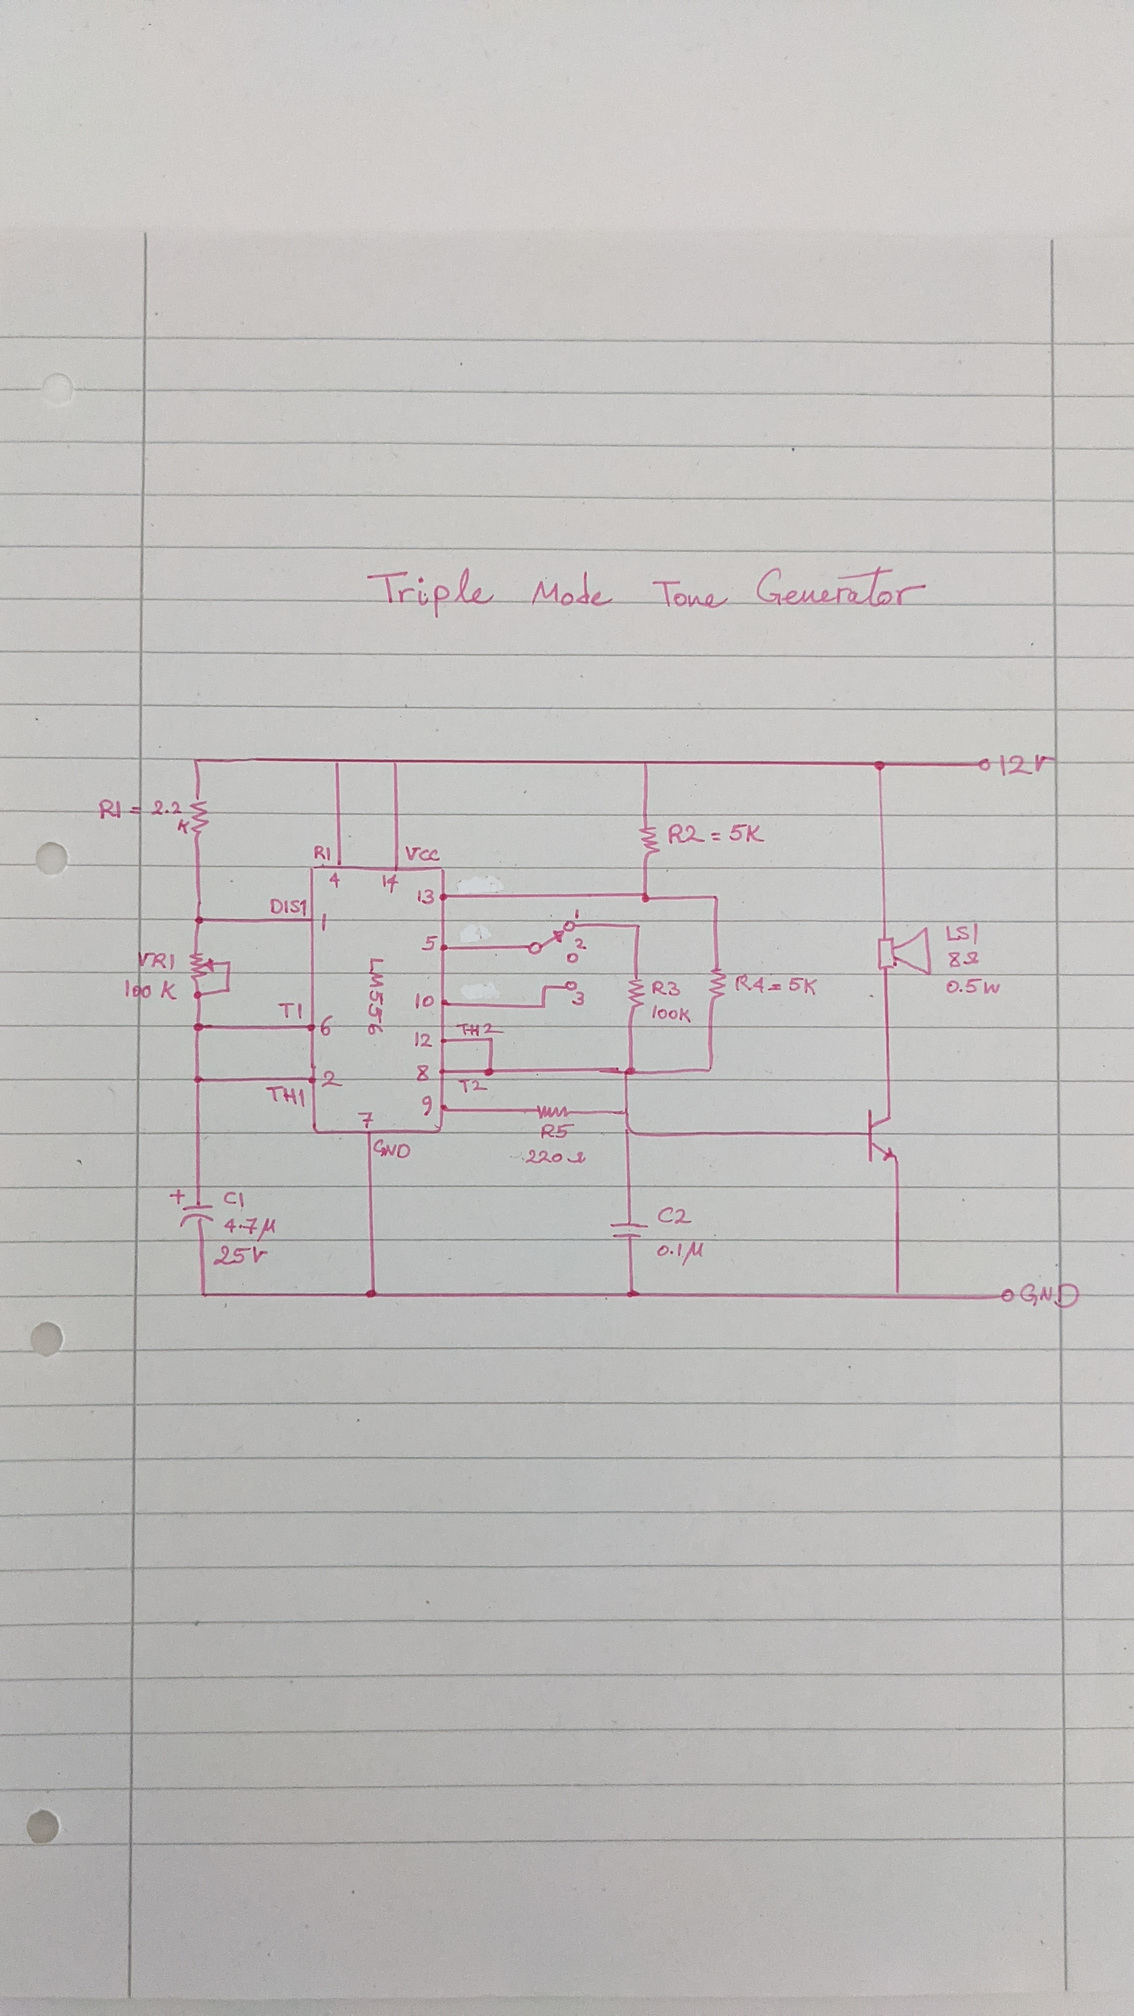capacitor.polarized: (169, 1187, 219, 1231)
capacitor.unpolarized: (608, 1218, 649, 1242)
integrated_circuit: (305, 863, 451, 1137)
junction: (618, 1063, 641, 1080), (191, 1019, 210, 1036), (872, 757, 889, 773), (638, 889, 654, 906), (620, 1124, 638, 1138), (624, 1288, 642, 1302), (480, 1063, 496, 1079), (363, 1288, 379, 1302), (192, 912, 208, 926), (702, 1063, 719, 1076), (892, 1288, 906, 1302), (192, 1072, 206, 1086), (197, 1288, 210, 1302), (640, 757, 654, 770), (331, 755, 345, 767), (631, 921, 645, 933), (390, 755, 403, 767), (619, 1106, 633, 1117), (485, 1034, 498, 1045), (191, 755, 204, 766), (223, 984, 235, 996), (192, 989, 204, 1001), (540, 982, 551, 991), (710, 892, 721, 901), (539, 1001, 548, 1011), (224, 958, 235, 966)
resistor: (188, 795, 212, 839), (636, 824, 662, 857), (624, 975, 647, 1009), (708, 966, 728, 1002), (532, 1104, 573, 1122)
resistor.adjustable: (188, 951, 217, 983)
speaker: (874, 924, 937, 979)
switch: (526, 919, 580, 965)
terminal: (976, 755, 996, 775), (998, 1286, 1016, 1304), (562, 979, 577, 991)
text: (366, 561, 930, 620), (97, 796, 190, 835), (666, 821, 767, 846), (734, 972, 820, 998), (1016, 1279, 1081, 1310), (366, 955, 388, 1037), (998, 752, 1058, 778), (222, 1216, 277, 1242), (123, 978, 181, 1002), (212, 1243, 271, 1267), (655, 1241, 708, 1267), (944, 976, 1002, 998), (523, 1146, 588, 1166), (264, 1083, 307, 1109), (136, 948, 177, 972), (649, 1002, 692, 1025), (372, 1137, 413, 1160), (456, 1019, 505, 1037), (944, 921, 980, 946), (269, 894, 307, 917), (655, 1205, 694, 1225), (946, 948, 980, 971), (403, 845, 442, 863), (276, 1000, 306, 1022), (539, 1122, 576, 1140), (649, 978, 683, 997), (456, 1077, 489, 1095), (318, 1069, 345, 1088), (379, 872, 402, 894), (222, 1189, 246, 1209), (312, 843, 334, 864), (413, 1029, 433, 1050), (413, 990, 435, 1009), (318, 1014, 335, 1038), (354, 1109, 375, 1128), (418, 933, 439, 953), (415, 888, 438, 906), (420, 1094, 435, 1119), (328, 870, 343, 890), (415, 1062, 431, 1083), (318, 910, 331, 933), (570, 990, 587, 1007), (573, 936, 588, 951), (573, 906, 582, 919)
transistor: (865, 1106, 904, 1164)
